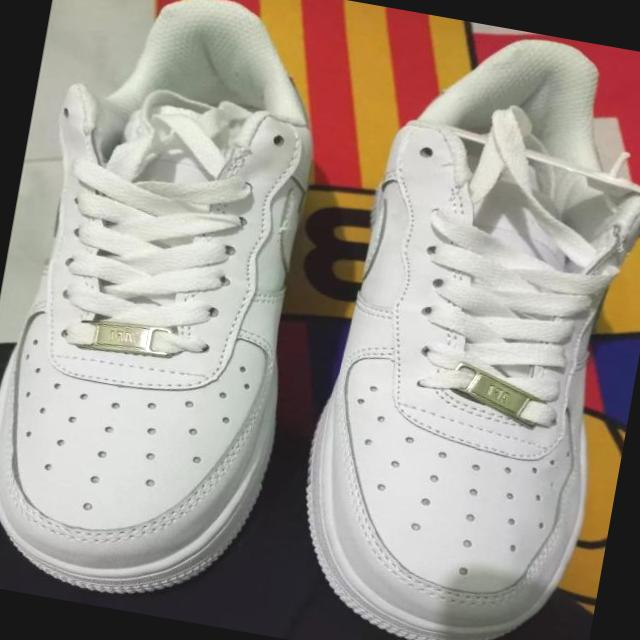nike_fake_airforce: (277, 9, 640, 640), (0, 0, 356, 621)
